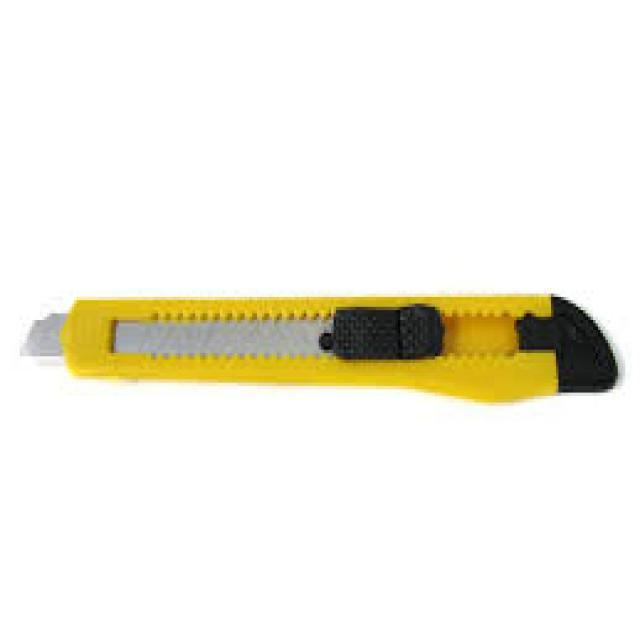cutter: (9, 290, 622, 410)
